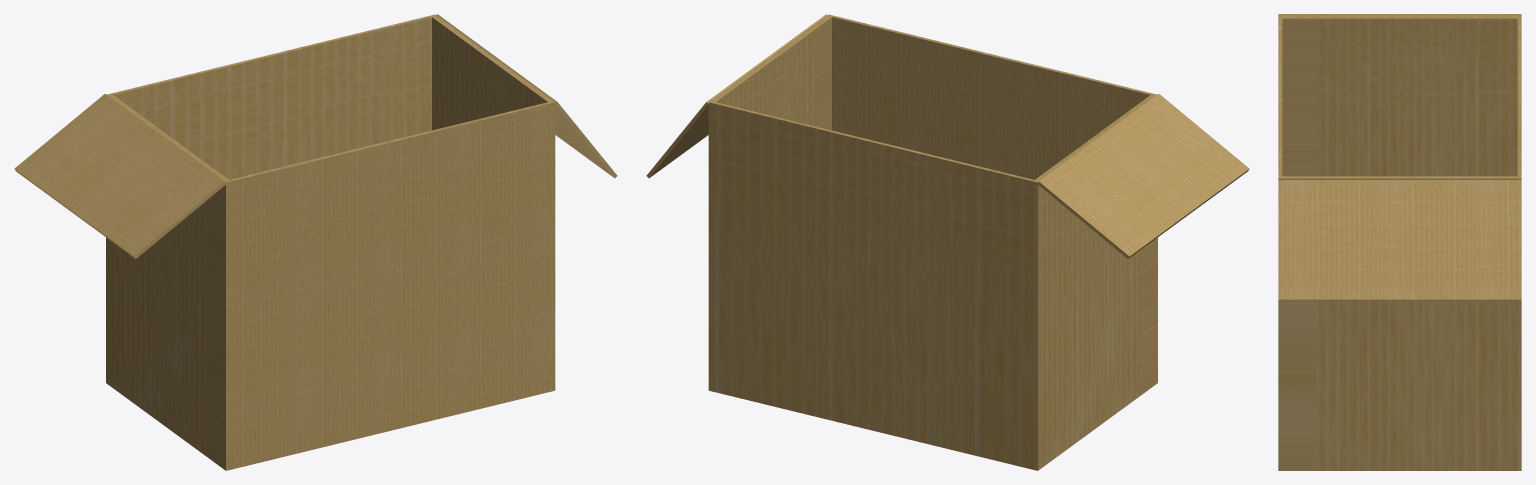
The model's file is Cardboard_H.FBX.
3 views of the same model, side by side, from view 1: azimuth 30°, elevation 25°; view 2: azimuth 150°, elevation 25°; view 3: azimuth 270°, elevation 25° (orthographic).
Visible parts, largest first — view 1: Cardboard_Htype; view 2: Cardboard_Htype; view 3: Cardboard_Htype.
Part boxes in pixels (<box>): Cardboard_Htype: <box>14,14,617,470</box>; Cardboard_Htype: <box>646,14,1249,470</box>; Cardboard_Htype: <box>1278,14,1521,470</box>.
Size of the model in its own units: 465 by 266 by 200.
